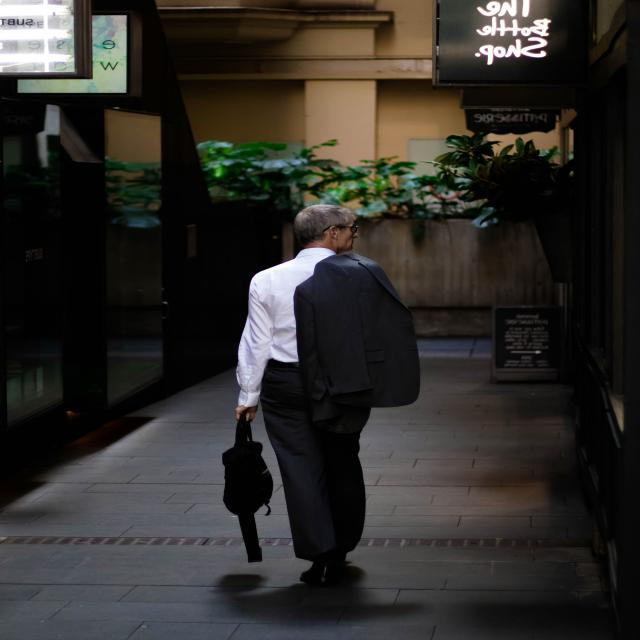adult: (230, 201, 408, 586)
